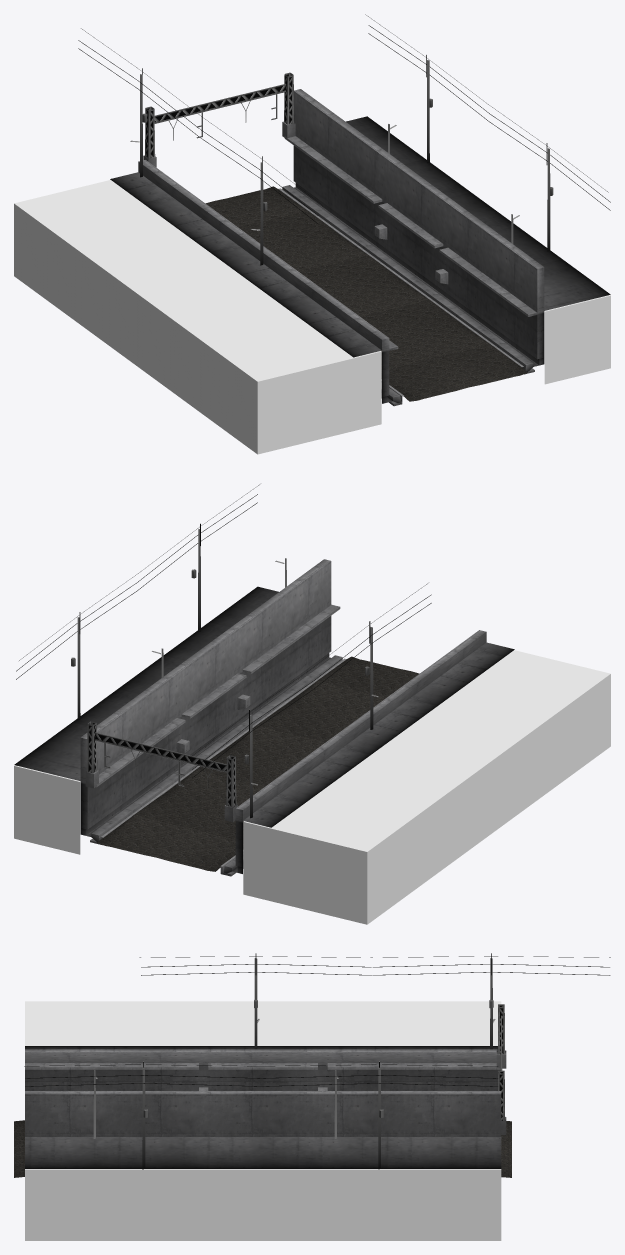
Rendered from KH_FROM_UNDER.glb.
3 views of the same model, one above another, from view 1: azimuth 30°, elevation 25°; view 2: azimuth 150°, elevation 25°; view 3: azimuth 270°, elevation 25° (orthographic). The views are drawn at different scales.
Visible parts, largest first — view 1: Jari_All, obj2, obj10, obj9, obj8; view 2: Jari_All, obj2, obj8, obj10, obj9; view 3: Jari_All, obj2, obj10, obj8, obj9.
Part boxes in pixels (box(x1,y1,x2,y2)): Jari_All: box(14, 89, 610, 454); obj2: box(78, 28, 295, 177); obj10: box(488, 104, 610, 251); obj9: box(200, 118, 321, 265); obj8: box(365, 14, 489, 163); Jari_All: box(14, 559, 610, 924); obj2: box(85, 669, 313, 822); obj8: box(16, 572, 163, 719); obj10: box(137, 484, 286, 631); obj9: box(311, 583, 431, 729); Jari_All: box(14, 1001, 511, 1240); obj2: box(372, 953, 610, 1134); obj10: box(24, 1061, 261, 1169); obj8: box(261, 1061, 497, 1169); obj9: box(139, 953, 371, 1049).
Size of the model in its own units: 84.63 by 41.16 by 125.
16 materials, 12 textured.
